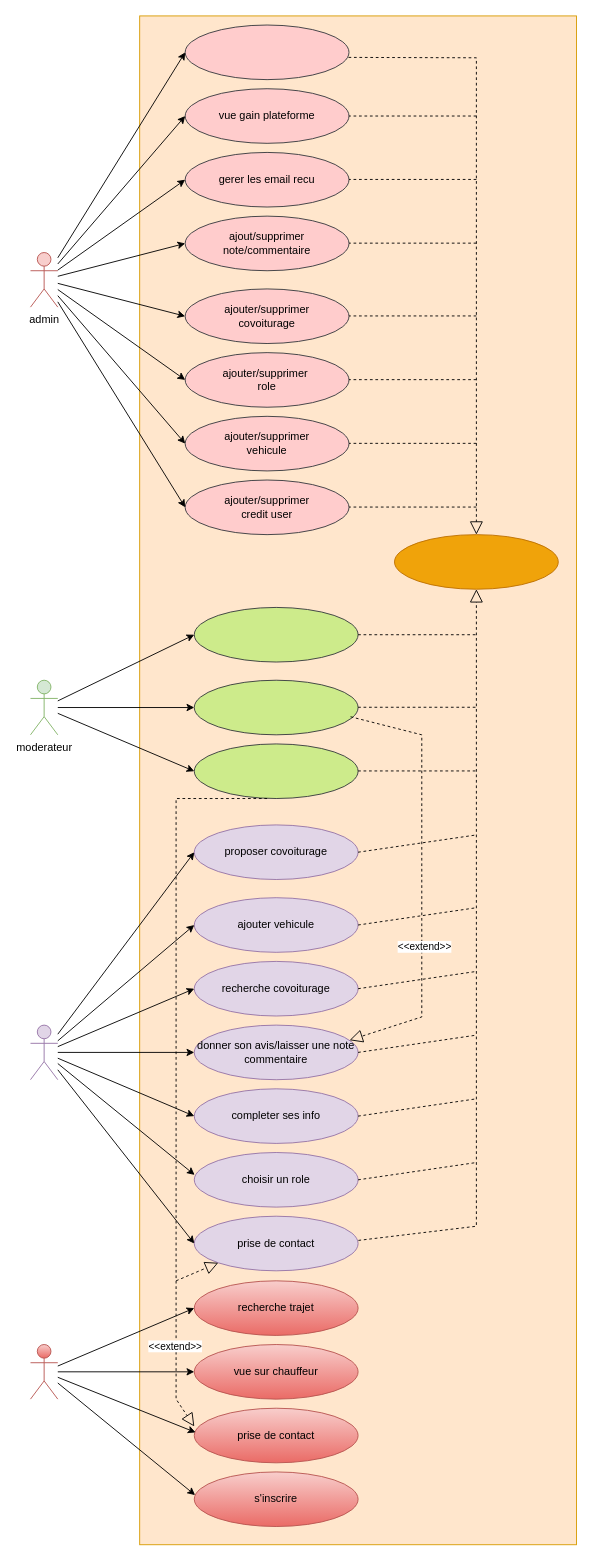
This 592x1561 diagram has some shape labels left out. Each missing label, with the centre of its shape:
"ajout/modification compte modo/user" belongs at point (266, 52).
"ajouter/supprimer note/commentaire" belongs at point (275, 707).
"anonymous" belongs at point (44, 1371).
"gerer email recu" belongs at point (275, 634).
"repondre au prise de contact" belongs at point (275, 771).
"Se connecter" belongs at point (476, 561).
"User" belongs at point (44, 1052).
